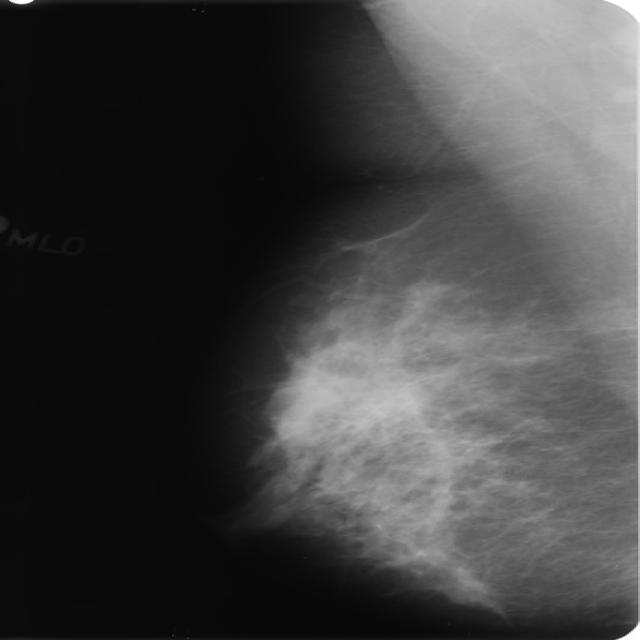tumour: (446, 578, 486, 604)
